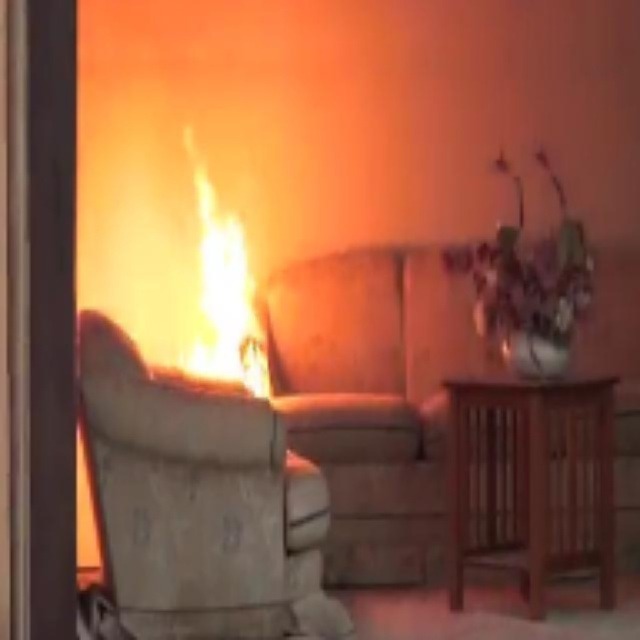fire: (151, 149, 277, 398)
